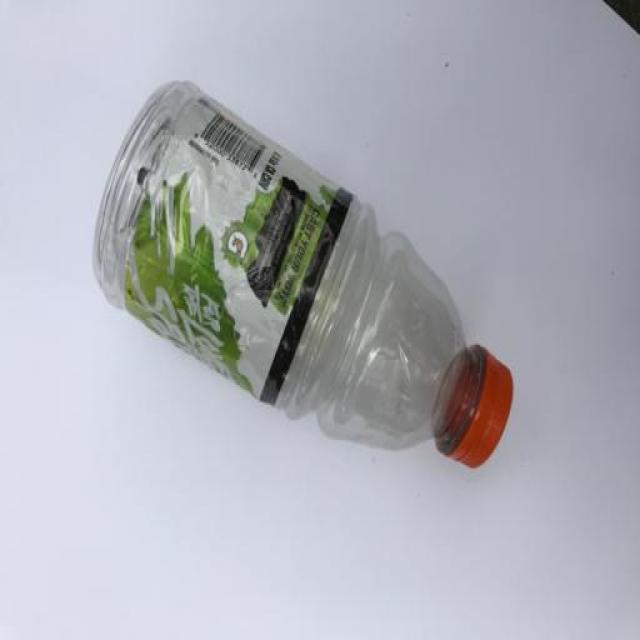Waste: (95, 82, 512, 466)
